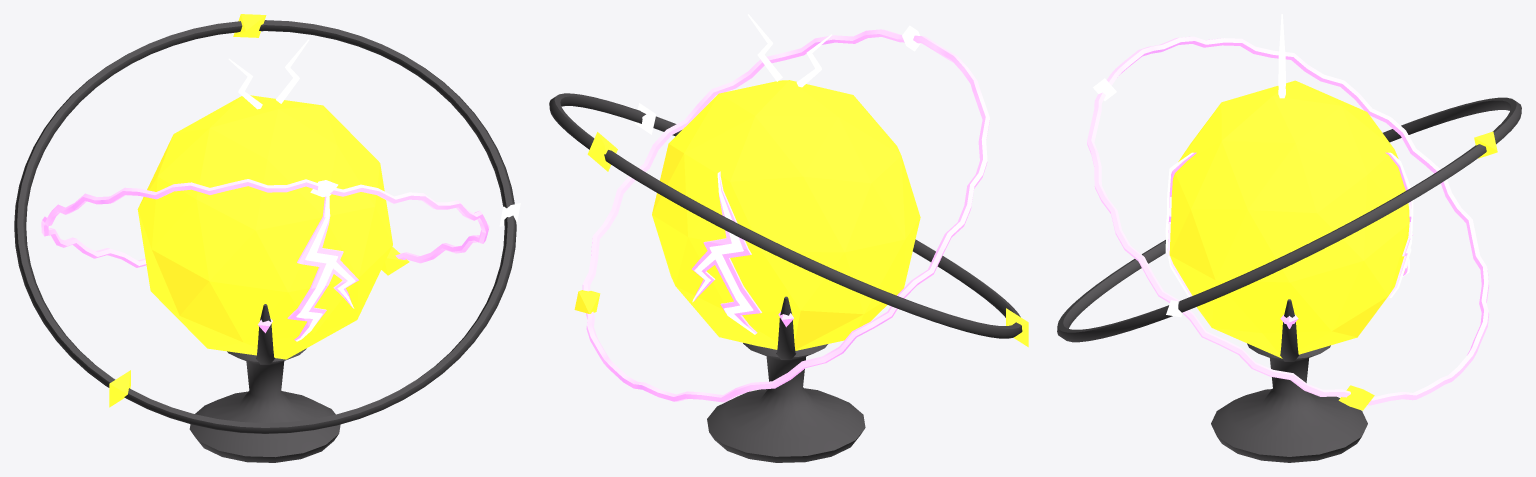
File: thundra_orbital.glb
3 views of the same model, side by side, from view 1: azimuth 30°, elevation 25°; view 2: azimuth 150°, elevation 25°; view 3: azimuth 270°, elevation 25° (orthographic). The views are drawn at different scales.
Parts seen in each view (by area): view 1: thundra_orbital; view 2: thundra_orbital; view 3: thundra_orbital.
Boxes of the visible parts, left/top/right/bottom form: thundra_orbital: left=14, top=14, right=520, bottom=462; thundra_orbital: left=549, top=14, right=1028, bottom=462; thundra_orbital: left=1057, top=14, right=1521, bottom=462.
Bounding box in the file's own units: 0.315 × 0.2764 × 0.2923.
